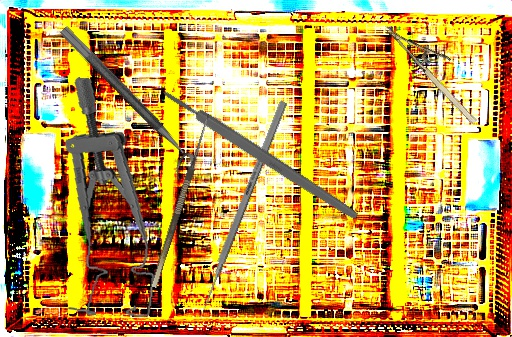Fixation Ring: (47, 24, 202, 184)
Hook Surgical: (141, 109, 213, 289)
Needle Holder: (383, 8, 493, 127)
Pusher: (195, 100, 288, 321)
Scalpel Handle: (160, 86, 361, 223)
Speculum: (47, 76, 176, 322)
